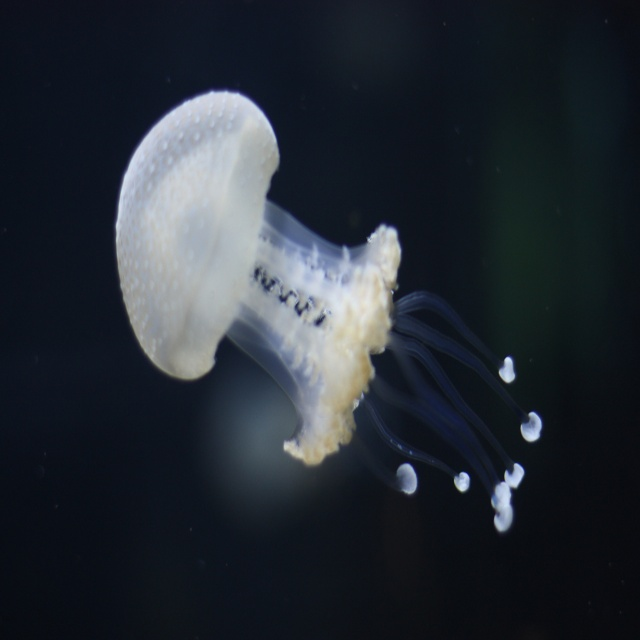Jellyfish: (116, 90, 542, 533)
